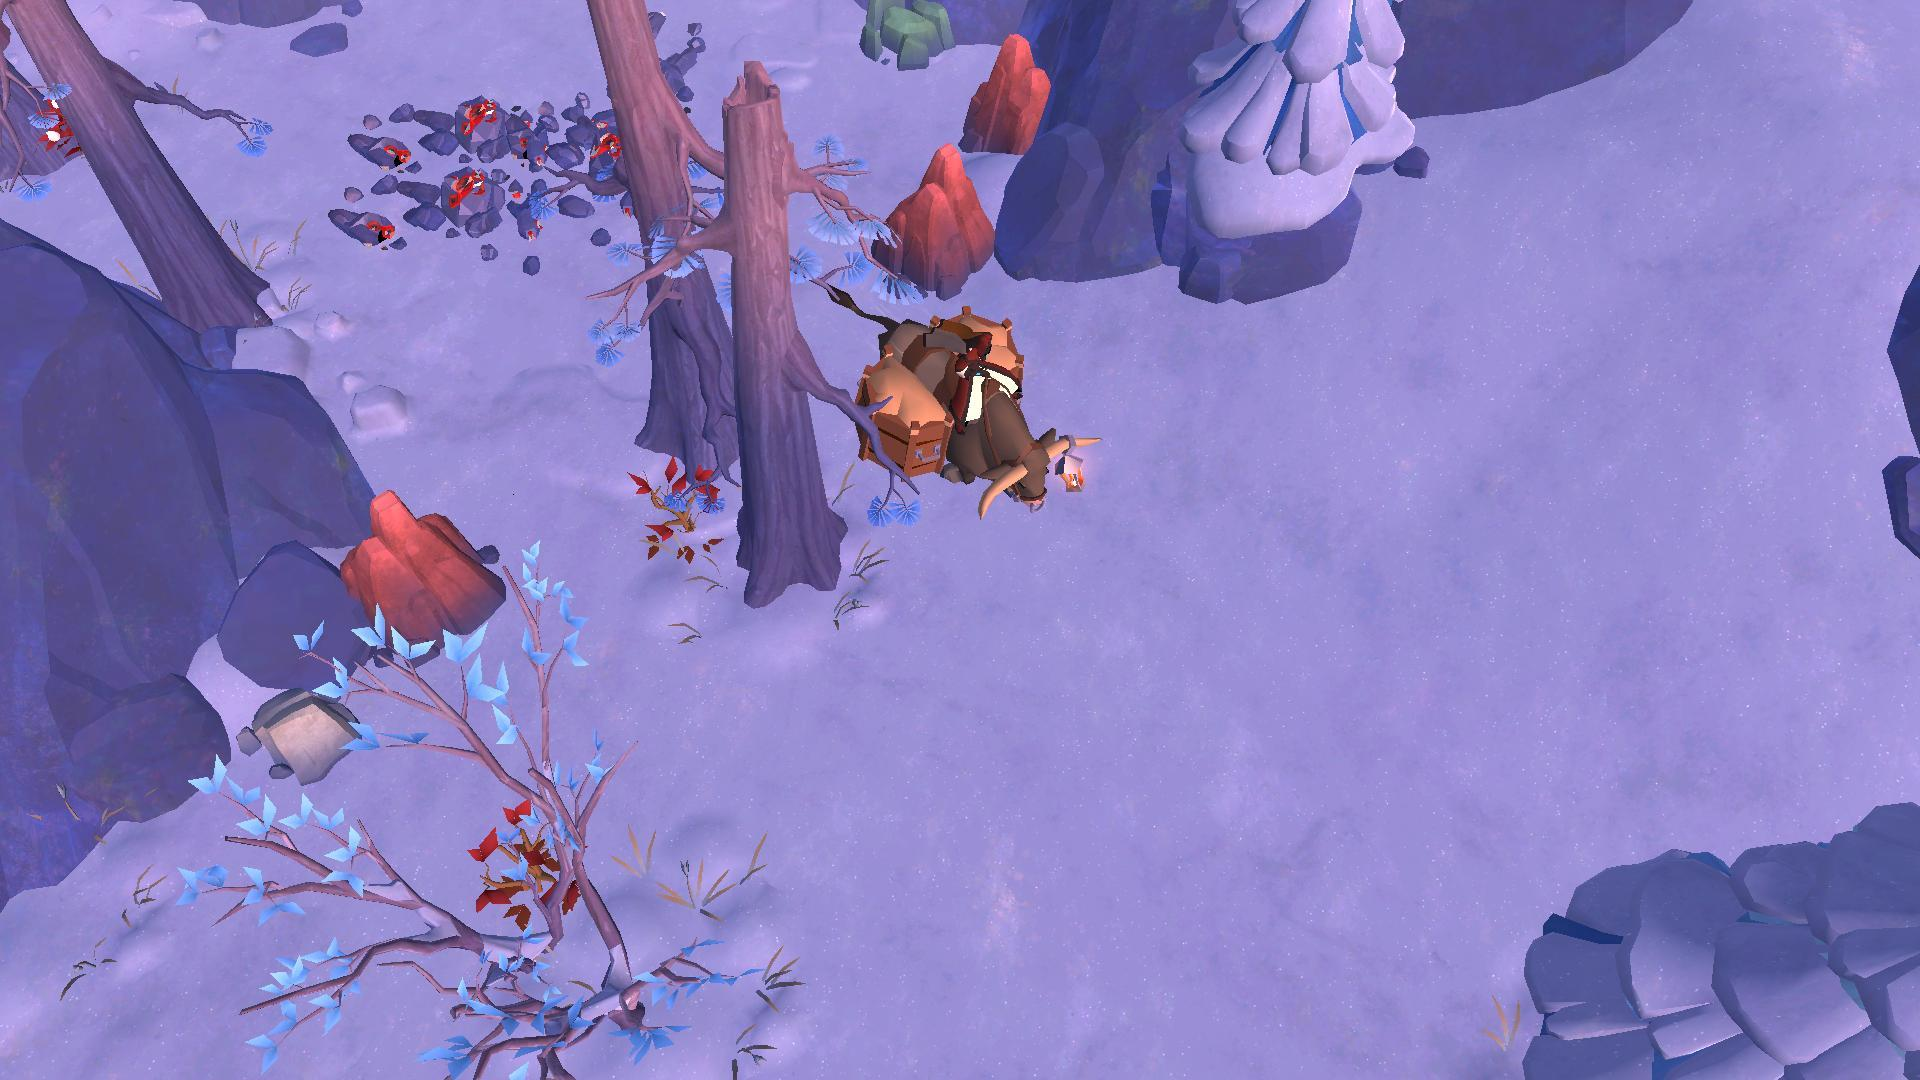rock_t3: (841, 0, 961, 71)
rock_t5: (336, 487, 500, 640), (876, 141, 993, 294), (953, 28, 1062, 160)
